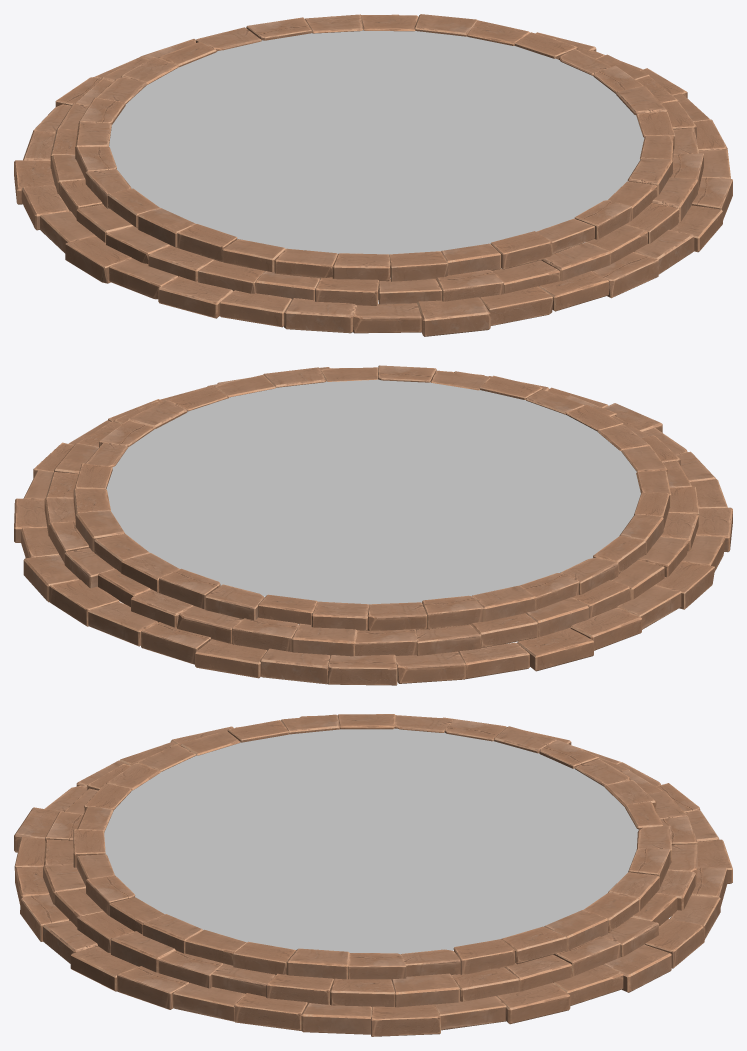
Rendered from SM_Dome_Stair.fbx.
3 views of the same model, one above another, from view 1: azimuth 30°, elevation 25°; view 2: azimuth 150°, elevation 25°; view 3: azimuth 270°, elevation 25° (orthographic).
Visible parts, largest first — view 1: SM_Dome_Stair_LOD0; view 2: SM_Dome_Stair_LOD0; view 3: SM_Dome_Stair_LOD0.
Boxes of the visible parts, box(x1,y1,x2,y2) form: SM_Dome_Stair_LOD0: box(14, 14, 732, 336); SM_Dome_Stair_LOD0: box(14, 365, 732, 685); SM_Dome_Stair_LOD0: box(14, 714, 732, 1036).
Size of the model in its own units: 936 by 933 by 66.52.
